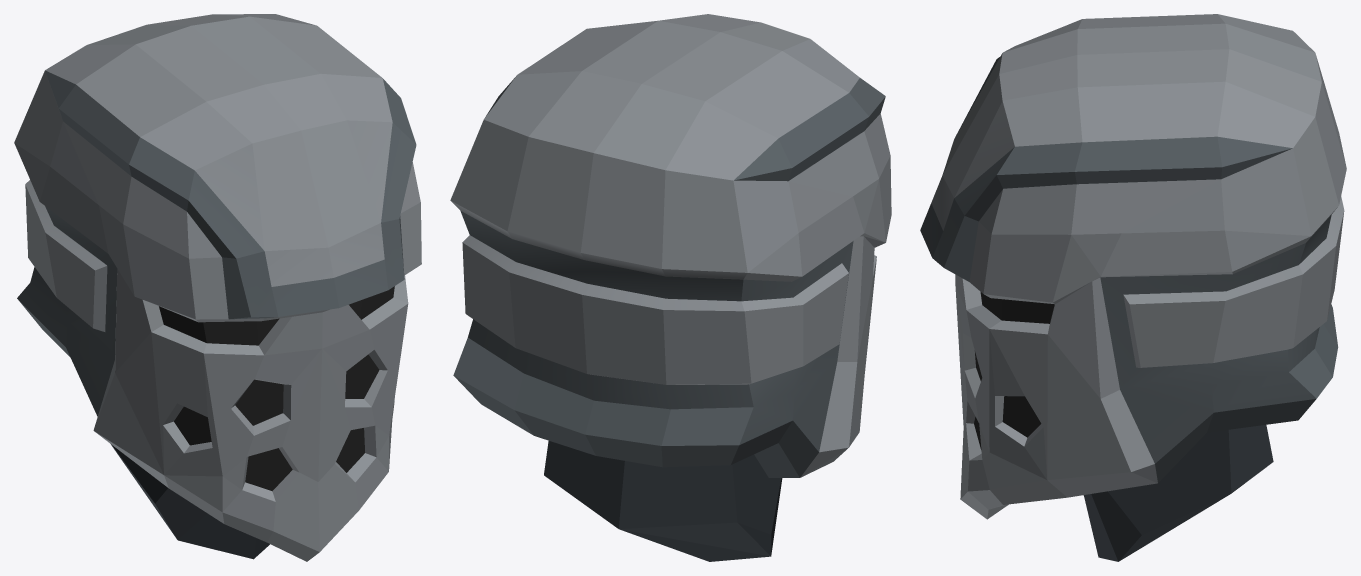
Rendered from Chr_Head_No_Elements_Female_09_Static.fbx.
3 renders of one model, left to right at view 1: azimuth 30°, elevation 25°; view 2: azimuth 150°, elevation 25°; view 3: azimuth 270°, elevation 25°, orthographic. The views are drawn at different scales.
Visible parts, largest first — view 1: Chr_Head_No_Elements_Female_09_Static; view 2: Chr_Head_No_Elements_Female_09_Static; view 3: Chr_Head_No_Elements_Female_09_Static.
Boxes of the visible parts, bbox=[...] form: Chr_Head_No_Elements_Female_09_Static: bbox=[14, 14, 421, 561]; Chr_Head_No_Elements_Female_09_Static: bbox=[450, 14, 891, 561]; Chr_Head_No_Elements_Female_09_Static: bbox=[920, 14, 1346, 561].
Size of the model in its own units: 0.246 by 0.3826 by 0.2911.
